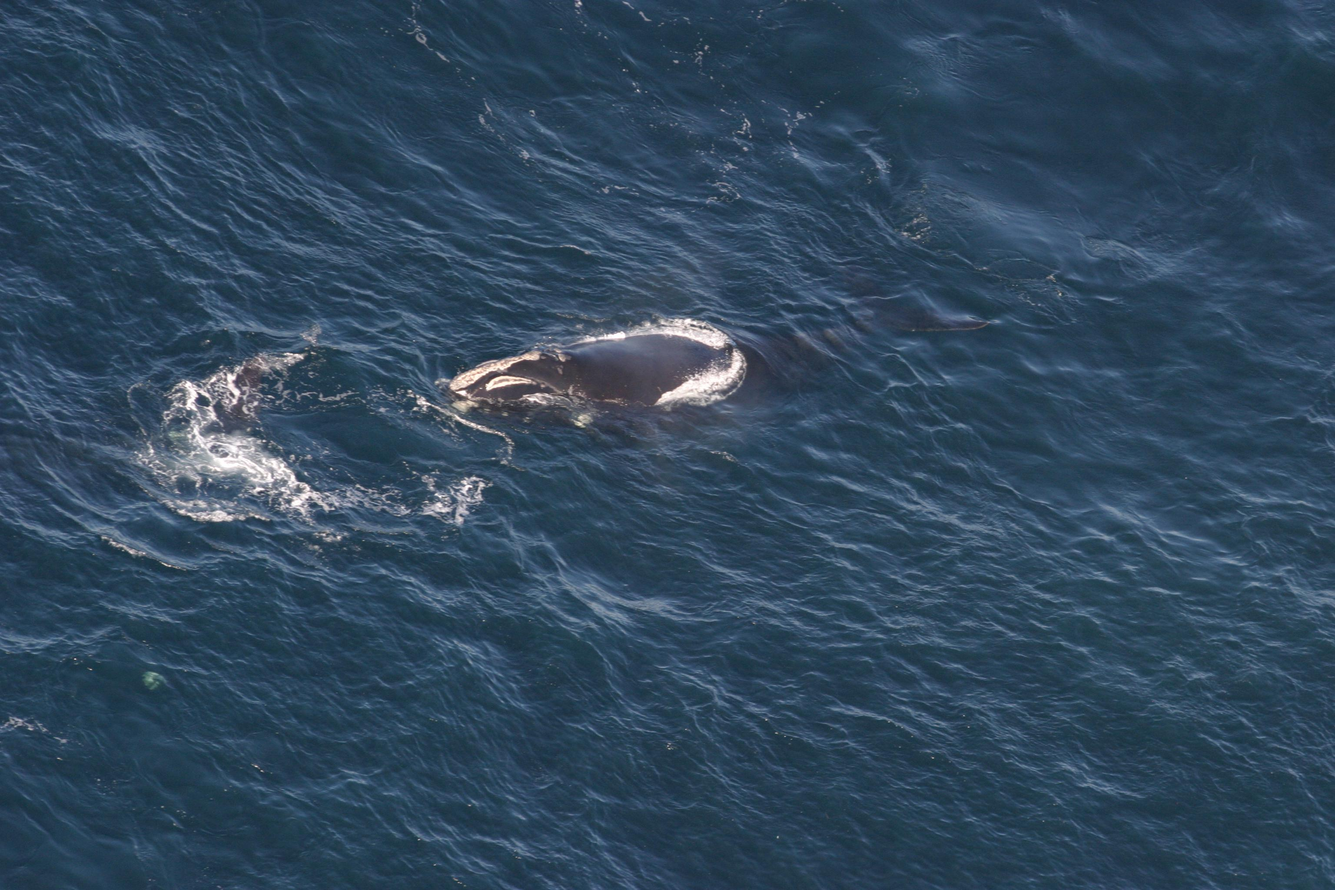whale: (430, 256, 999, 508)
